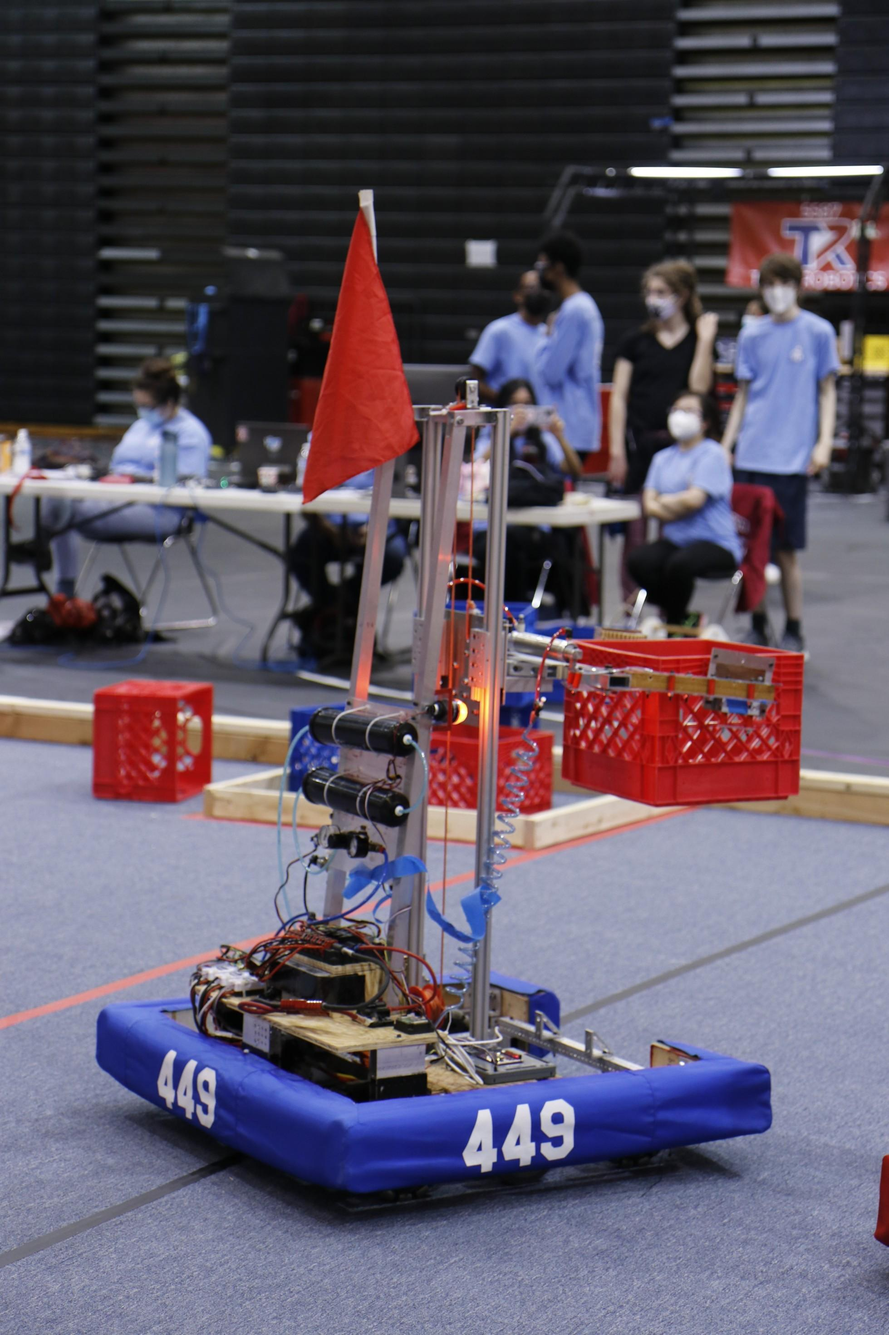robot: (95, 184, 783, 1210), (864, 1140, 889, 1278)
